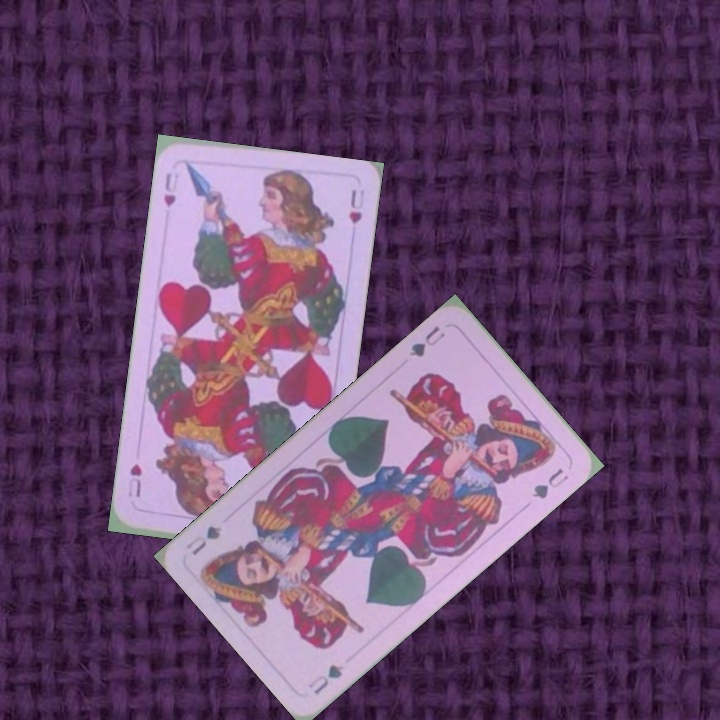GU: (405, 321, 448, 362), (304, 660, 346, 698)
HU: (159, 168, 181, 210)
